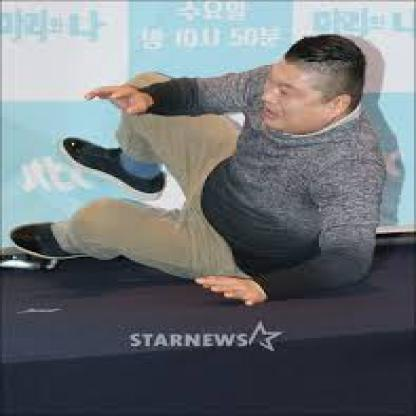Fall_Down: (8, 34, 384, 308)
